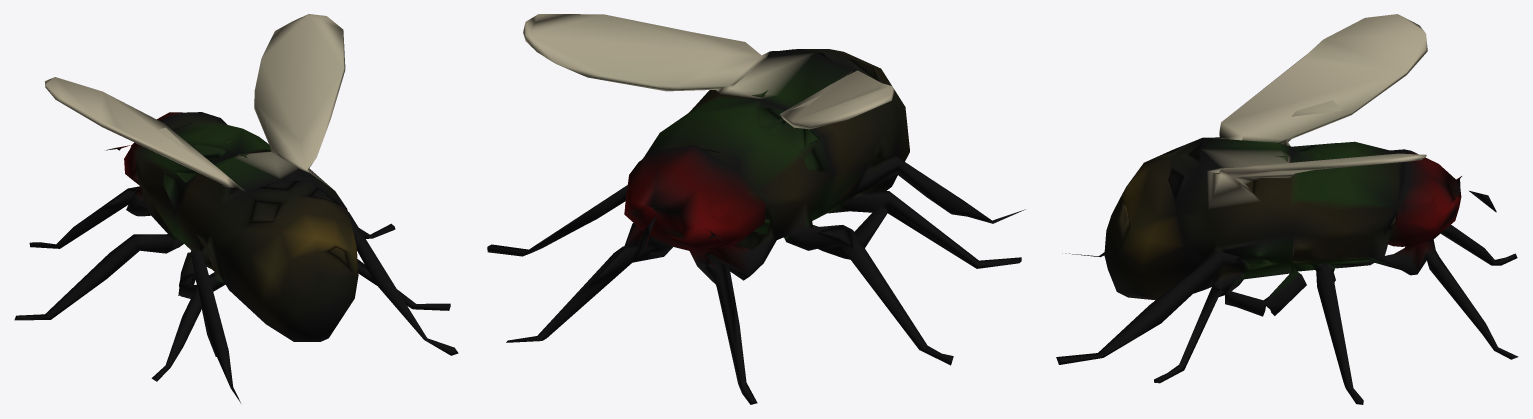
Rendered from gen3d-housefly-lod1.glb.
3 renders of one model, left to right at view 1: azimuth 30°, elevation 25°; view 2: azimuth 150°, elevation 25°; view 3: azimuth 270°, elevation 25°, orthographic. The views are drawn at different scales.
Visible parts, largest first — view 1: part_0; view 2: part_0; view 3: part_0.
Part boxes in pixels (<box>): part_0: <box>14,14,458,402</box>; part_0: <box>487,14,1025,404</box>; part_0: <box>1056,14,1518,404</box>.
Size of the model in its own units: 1.86 by 0.9986 by 1.88.
